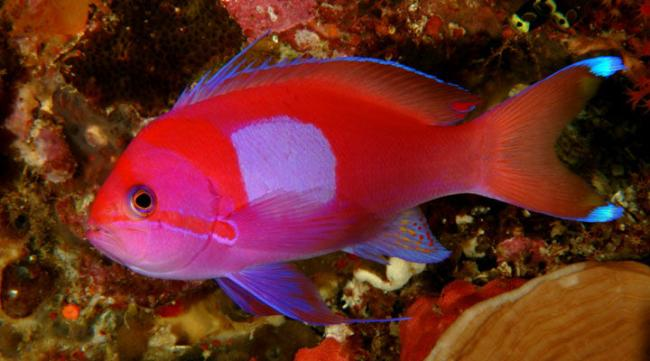fish: (86, 31, 625, 325)
